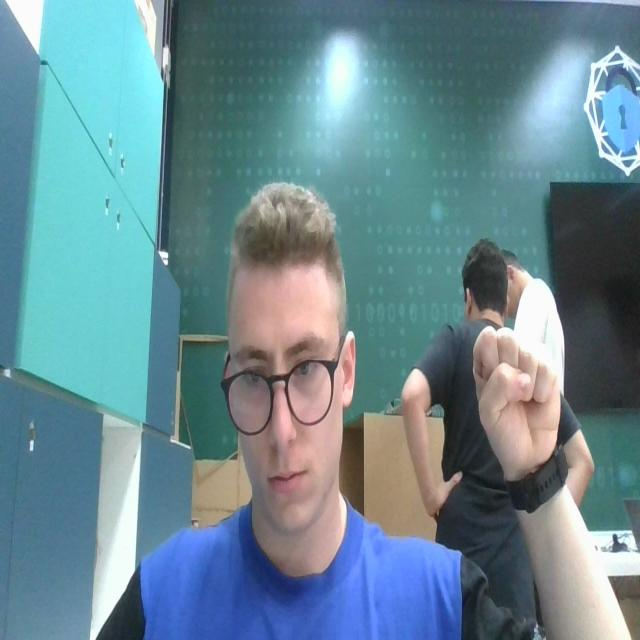S: (465, 322, 564, 469)
